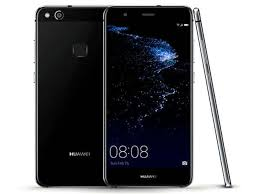huawei: (99, 2, 194, 189), (35, 3, 101, 188)
